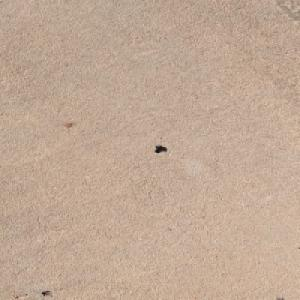BoltWasher: (153, 145, 164, 152)
